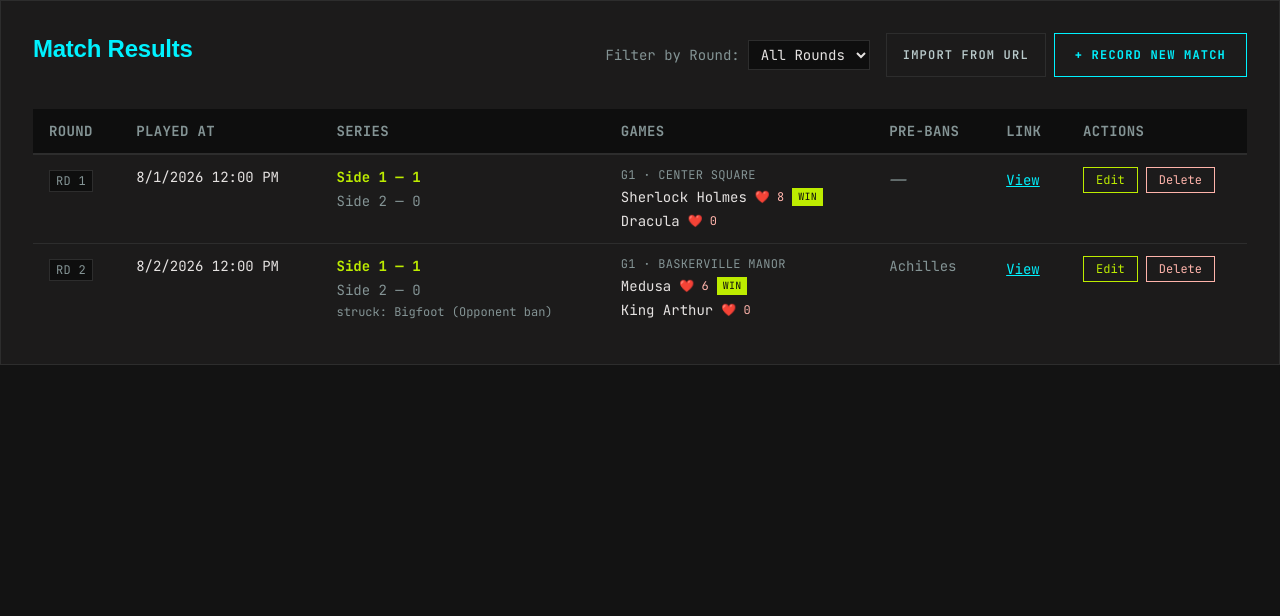
Test: MatchListAdmin › confirms in-app before deleting, and reloads the list once confirmed
This screenshot has width=1280, height=616.
Click the button "Delete" in the row of "Rd 1": [1180, 180] box [1146,167,1215,193]
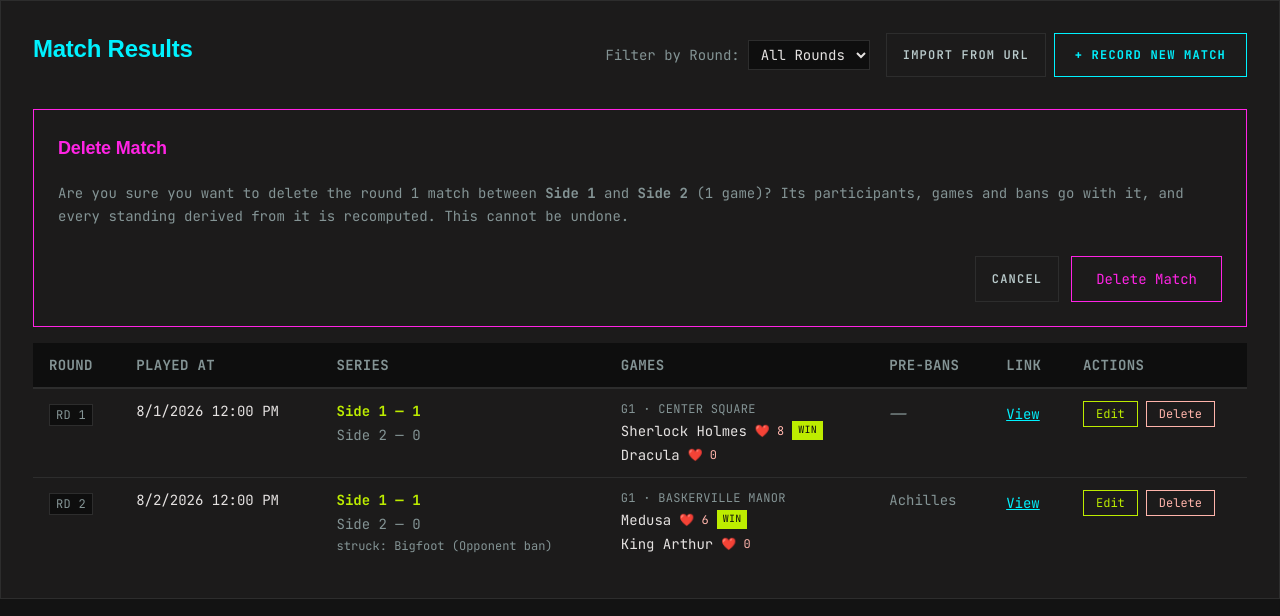
Now the text "Delete Match" is shown, box [58,138,167,158]
Click the button "Delete Match": [1147, 278] box [1071,256,1222,302]
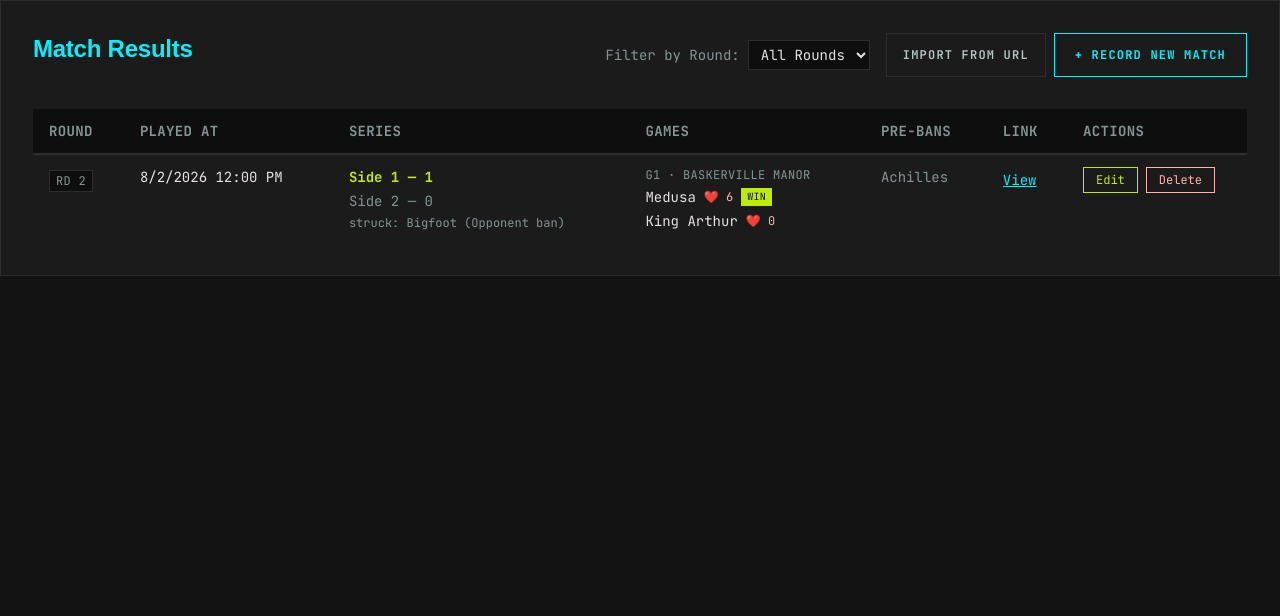
Now the text "Center Square" is gone
